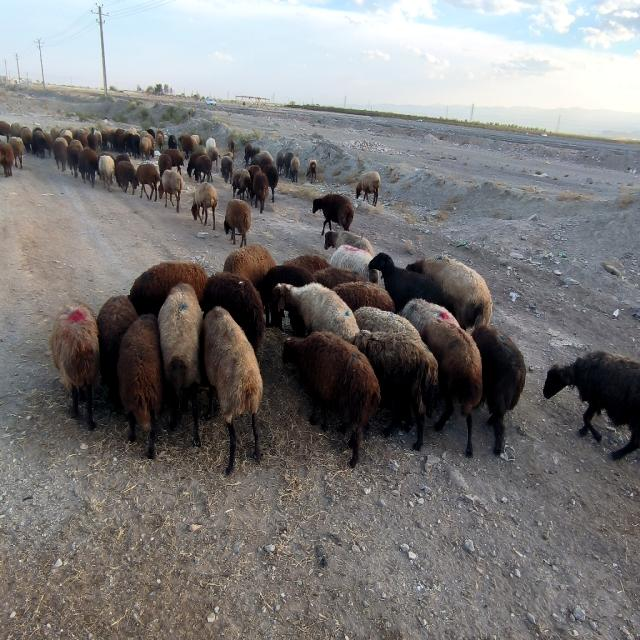sheep: (282, 332, 380, 468), (542, 350, 640, 460), (352, 330, 438, 449), (204, 307, 262, 475), (421, 317, 482, 456), (158, 283, 202, 446), (472, 325, 526, 454), (118, 313, 162, 458), (406, 255, 492, 329), (50, 303, 100, 430), (270, 282, 360, 342), (204, 272, 265, 354), (96, 295, 138, 411), (369, 252, 444, 311), (129, 262, 208, 316), (256, 265, 315, 329), (224, 243, 276, 285), (354, 307, 420, 338), (332, 282, 395, 312), (312, 193, 354, 234), (324, 230, 374, 256), (224, 198, 251, 246), (191, 183, 218, 229), (314, 267, 366, 289), (159, 170, 184, 212), (136, 163, 160, 202), (356, 172, 381, 206), (115, 162, 139, 195), (79, 148, 99, 187), (252, 172, 269, 212), (262, 165, 279, 202), (99, 153, 115, 192), (231, 168, 251, 199), (52, 137, 68, 172), (0, 142, 15, 177), (186, 152, 206, 178), (195, 153, 212, 183), (164, 148, 184, 173), (9, 137, 25, 168), (66, 145, 80, 178), (250, 152, 275, 169), (180, 133, 196, 158), (32, 130, 46, 158), (220, 155, 234, 182), (289, 313, 305, 335), (140, 137, 154, 162), (158, 153, 172, 177), (20, 127, 32, 153), (306, 158, 318, 182), (284, 152, 294, 178), (290, 157, 300, 182), (115, 128, 125, 153), (44, 133, 54, 157), (141, 130, 155, 147), (155, 130, 165, 153), (275, 152, 285, 174), (88, 133, 99, 152), (248, 165, 261, 181), (125, 132, 134, 155), (132, 133, 140, 158), (0, 120, 11, 138), (69, 140, 84, 152), (60, 130, 72, 145)
